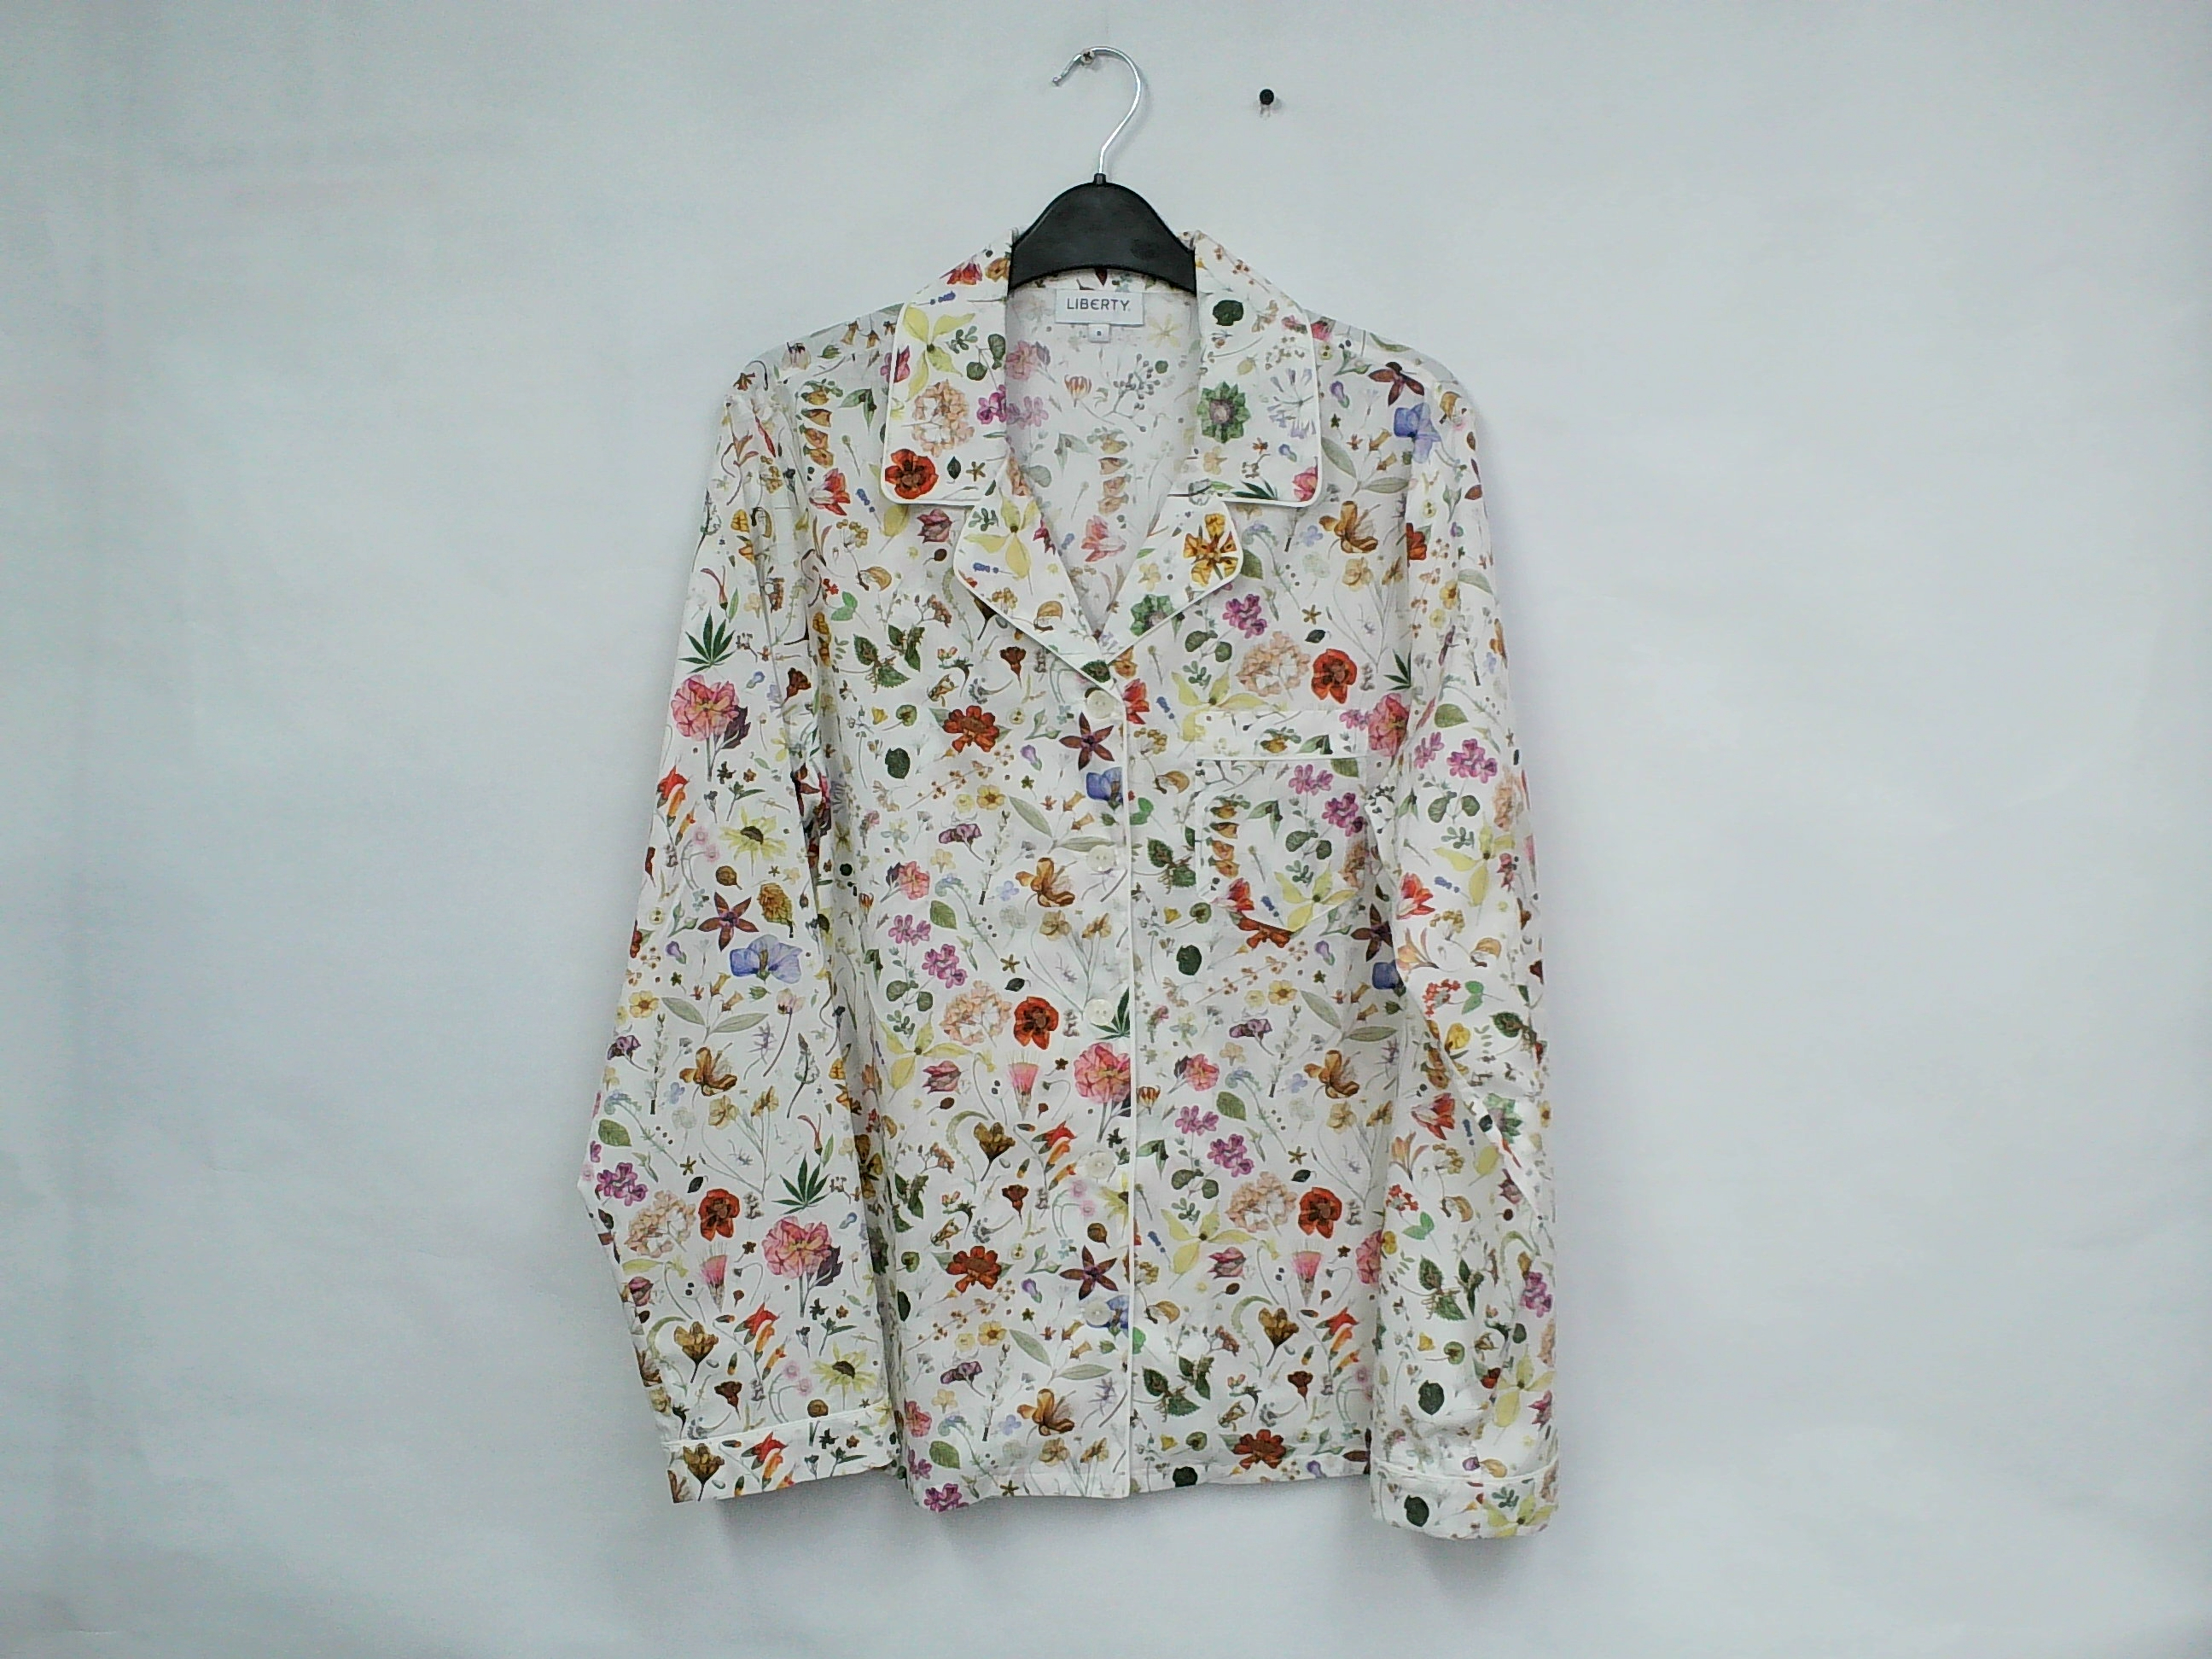seam: (1367, 1441, 1571, 1511)
